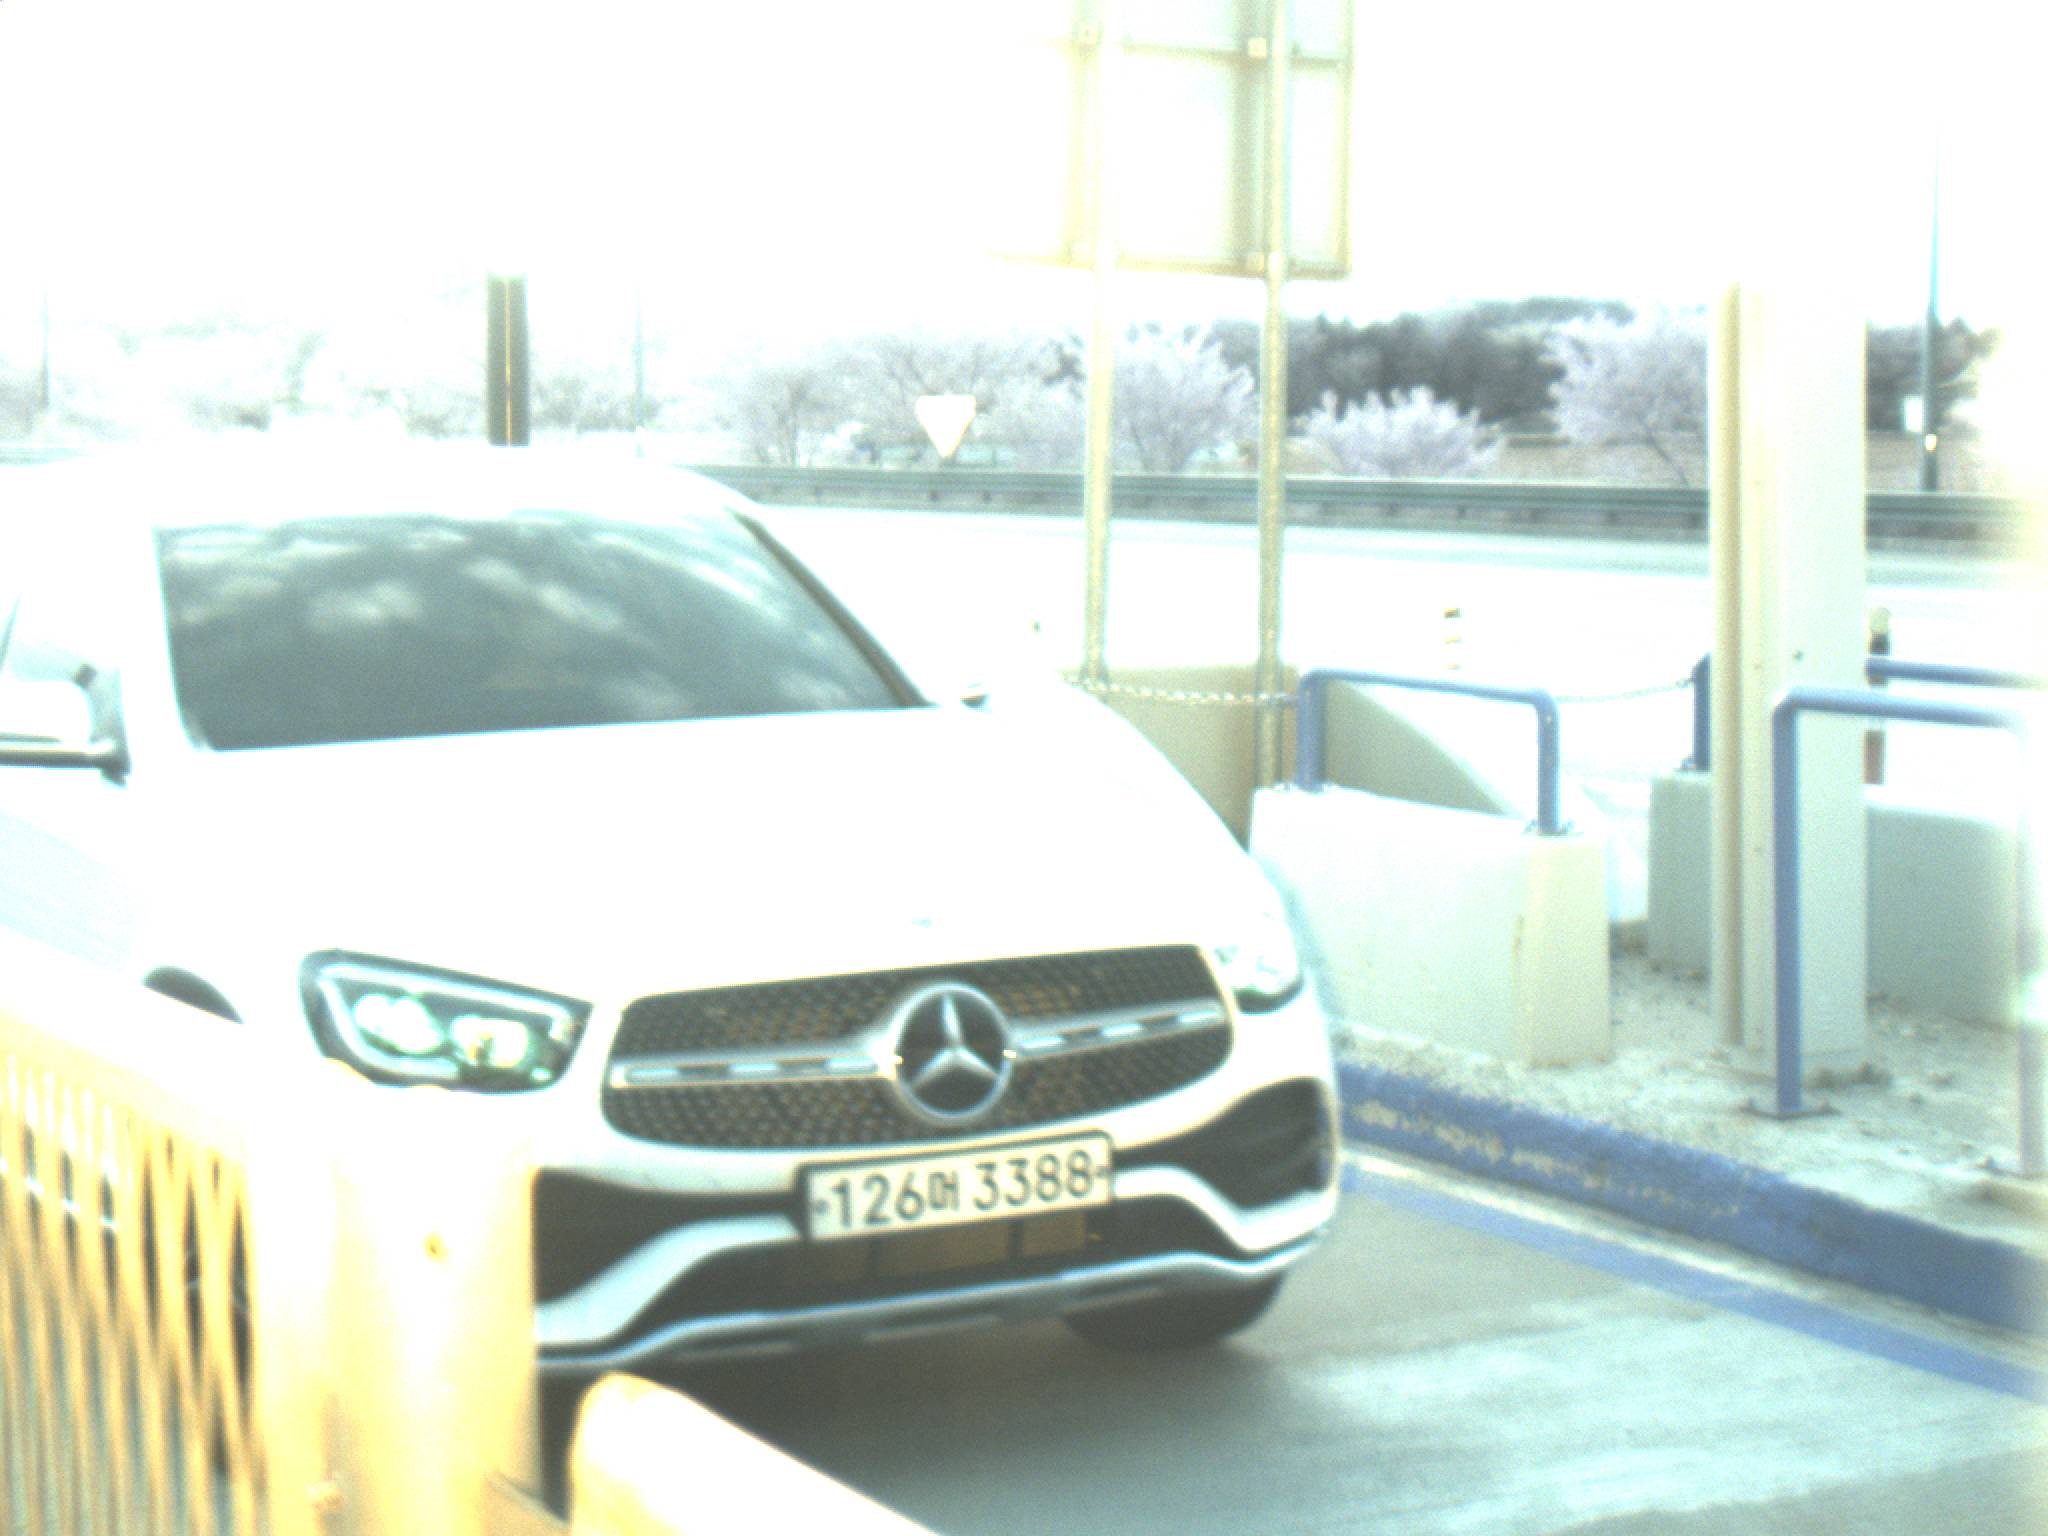car: (1, 428, 1357, 1468)
plate: (795, 1132, 1116, 1249)
